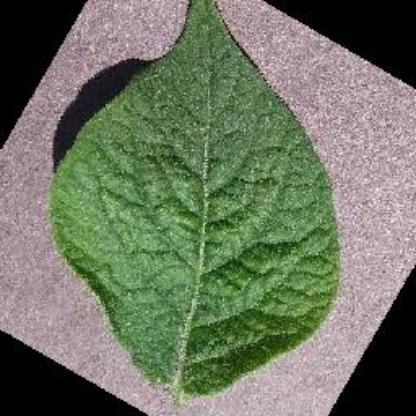Healthy-plant: (46, 1, 346, 403)
